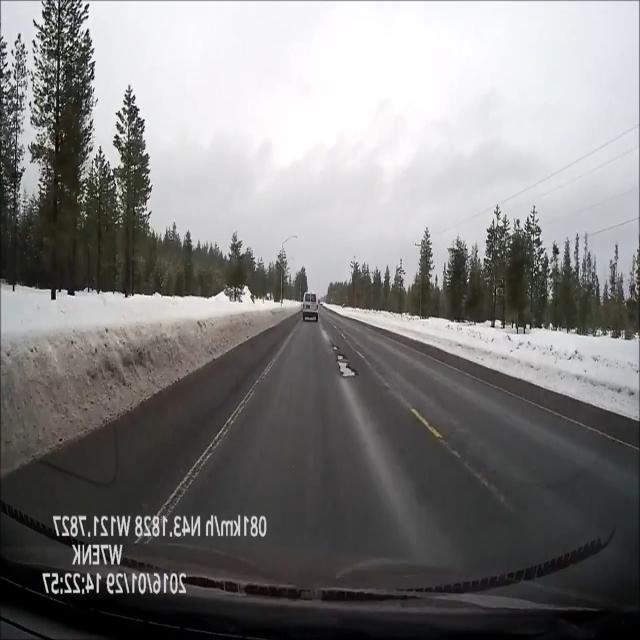pothole: (331, 338, 362, 387)
